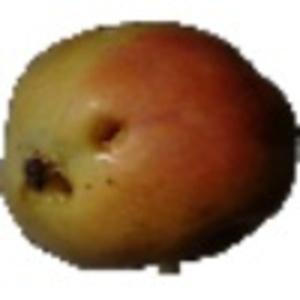mamão: (4, 18, 299, 264)
